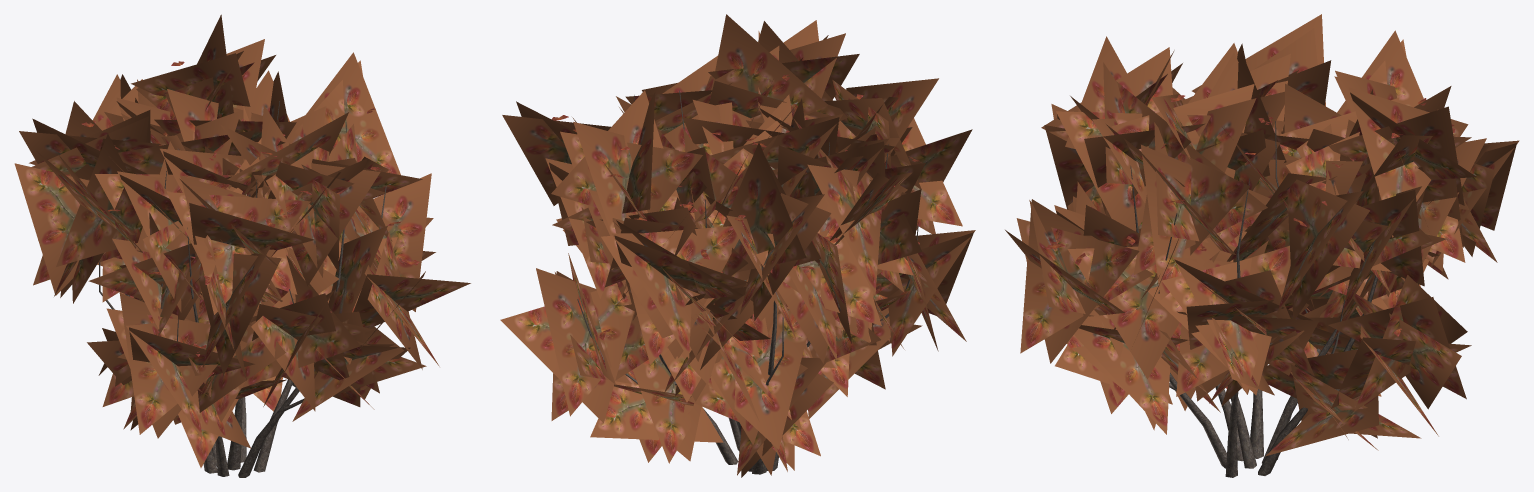
The model's file is Rosa_Grandiflora_Autumn_Adult.glb.
3 renders of one model, left to right at view 1: azimuth 30°, elevation 25°; view 2: azimuth 150°, elevation 25°; view 3: azimuth 270°, elevation 25°, orthographic. The views are drawn at different scales.
Parts seen in each view (by area): view 1: Rosa_Grandiflora_Autumn_Adult__LOD3; view 2: Rosa_Grandiflora_Autumn_Adult__LOD3; view 3: Rosa_Grandiflora_Autumn_Adult__LOD3.
Boxes of the visible parts, left/top/right/bottom form: Rosa_Grandiflora_Autumn_Adult__LOD3: left=14, top=14, right=470, bottom=477; Rosa_Grandiflora_Autumn_Adult__LOD3: left=500, top=14, right=975, bottom=477; Rosa_Grandiflora_Autumn_Adult__LOD3: left=1005, top=14, right=1519, bottom=477.
Size of the model in its own units: 1.14 by 1.13 by 1.3.
3 materials, 3 textured.
